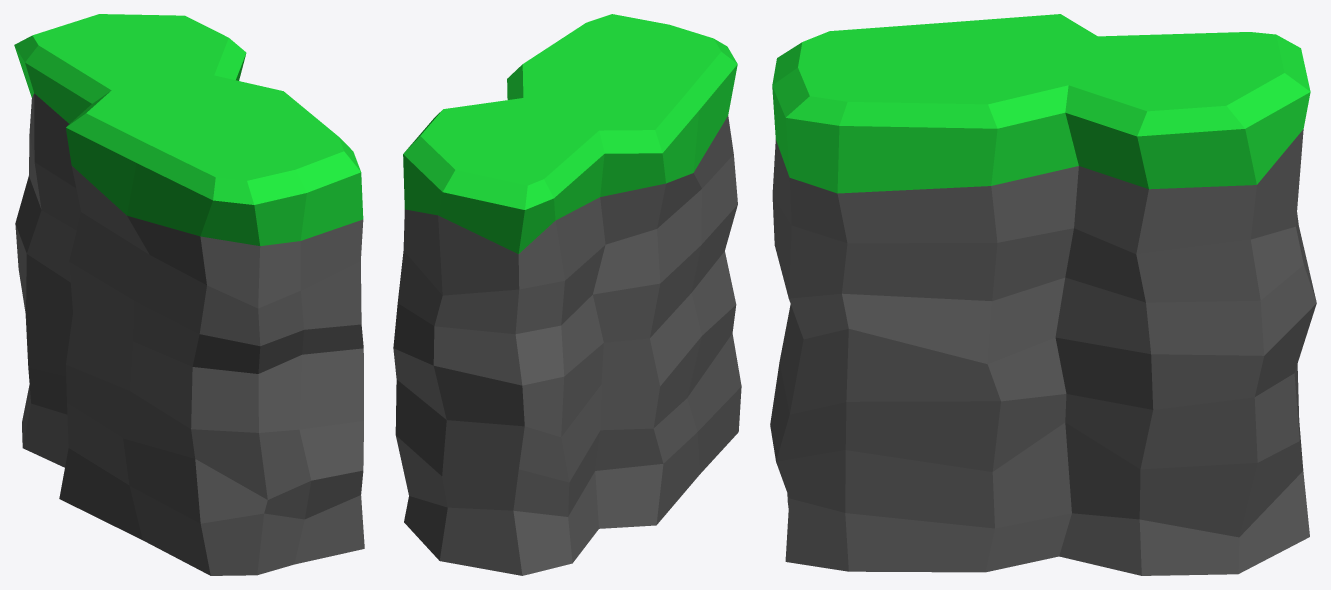
Rendered from cliff_3.fbx.
The picture shows the model from 3 angles, left to right: view 1: azimuth 30°, elevation 25°; view 2: azimuth 150°, elevation 25°; view 3: azimuth 270°, elevation 25°; orthographic projection. The views are drawn at different scales.
Visible parts, largest first — view 1: cliff3; view 2: cliff3; view 3: cliff3.
Part boxes in pixels (left/top/right/bottom): cliff3: left=14, top=14, right=364, bottom=575; cliff3: left=393, top=14, right=741, bottom=575; cliff3: left=770, top=14, right=1316, bottom=575.
Size of the model in its own units: 105 by 192 by 205.
